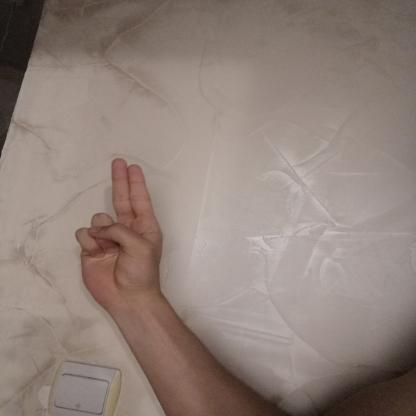TA: (59, 148, 175, 314)
